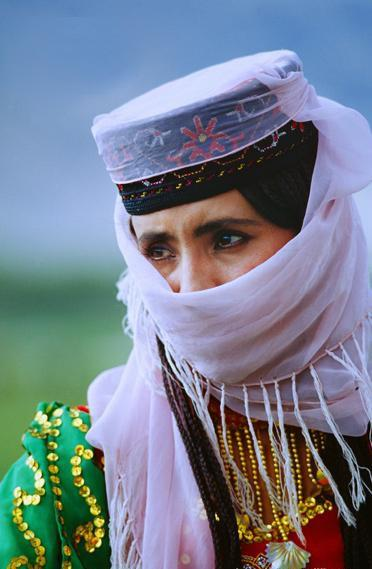WRONG: (135, 200, 310, 368)
